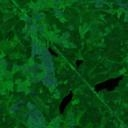alloviz: (93, 73, 124, 93), (57, 89, 74, 114), (47, 46, 59, 58), (74, 58, 84, 68)
